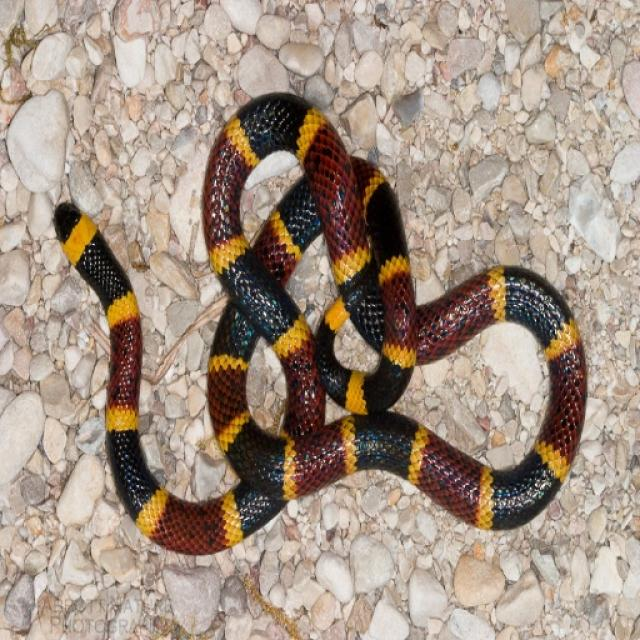snake: (36, 75, 598, 589)
